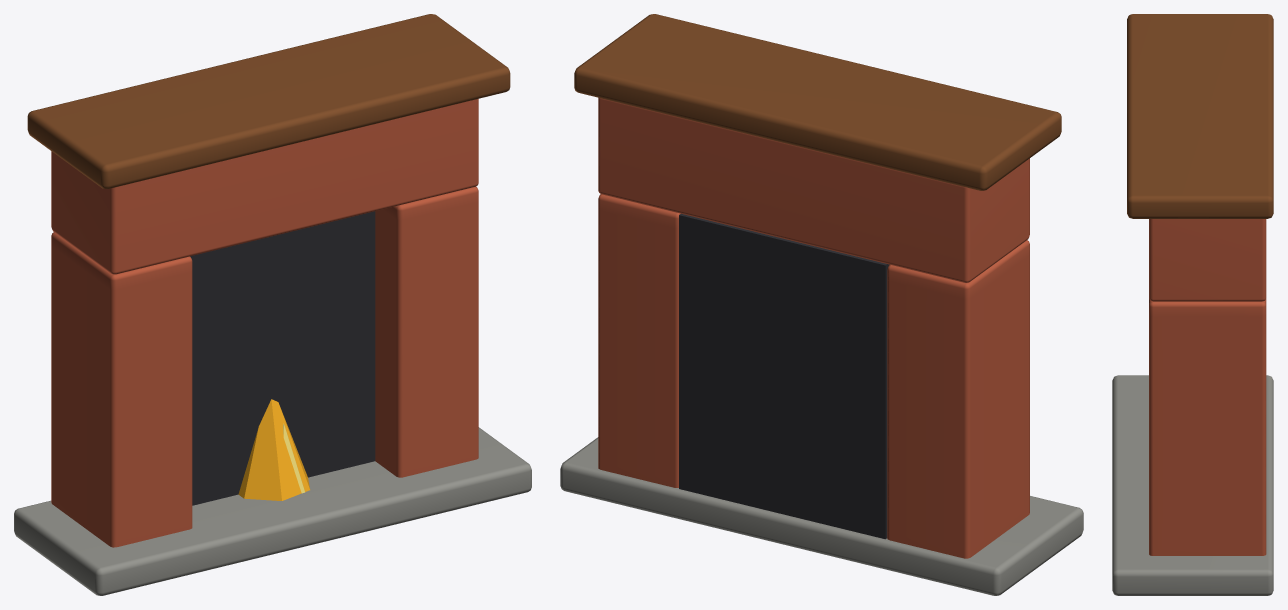
File: Fireplace.fbx
3 renders of one model, left to right at view 1: azimuth 30°, elevation 25°; view 2: azimuth 150°, elevation 25°; view 3: azimuth 270°, elevation 25°, orthographic. The views are drawn at different scales.
Parts seen in each view (by area): view 1: Fireplace; view 2: Fireplace; view 3: Fireplace.
Boxes of the visible parts, x1,y1,x2,y2 form: Fireplace: (14, 14, 531, 595); Fireplace: (560, 14, 1083, 595); Fireplace: (1112, 14, 1273, 595).
Bounding box in the file's own units: 6.4 × 5.93 × 2.2.
1 material, 1 textured.
